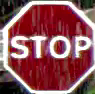Stop: (4, 0, 94, 93)
